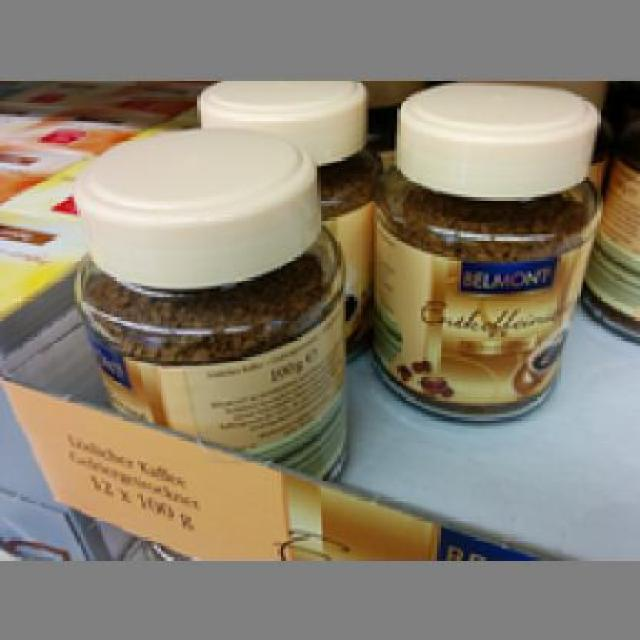Coffee: (72, 120, 348, 480), (366, 83, 600, 423)
